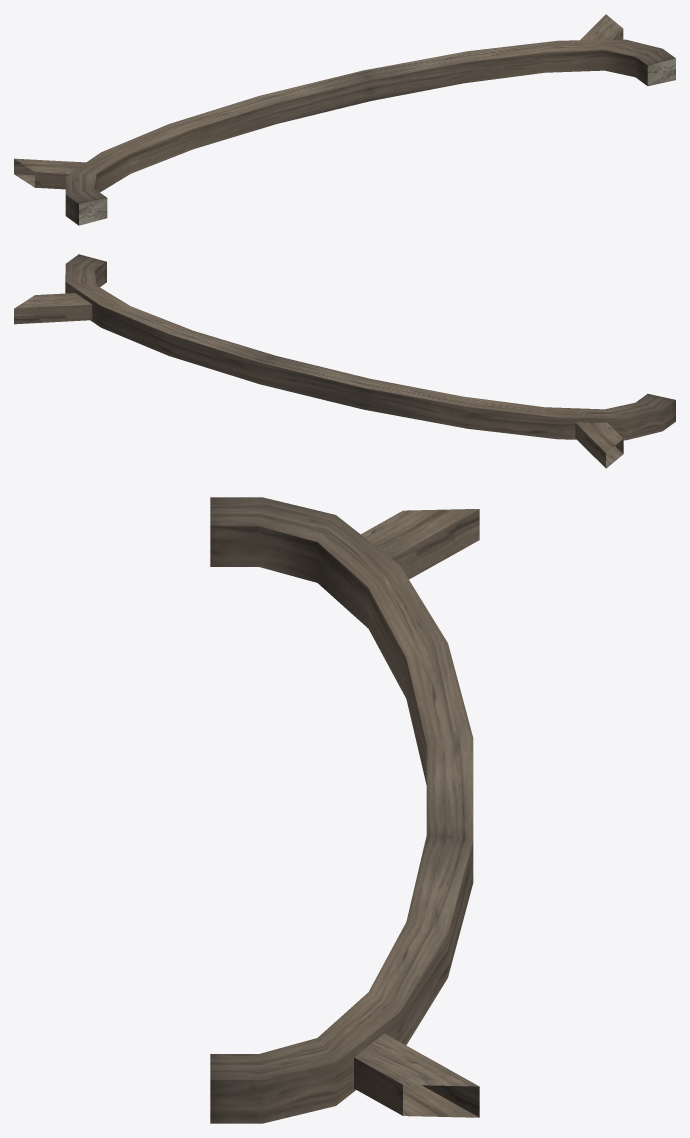
File: Arch_C.fbx
3 renders of one model, top to bottom at view 1: azimuth 30°, elevation 25°; view 2: azimuth 150°, elevation 25°; view 3: azimuth 270°, elevation 25°, orthographic. The views are drawn at different scales.
Parts seen in each view (by area): view 1: Arch_C; view 2: Arch_C; view 3: Arch_C.
Part boxes in pixels (x1,y1,x2,y2): Arch_C: (14,14,675,225); Arch_C: (14,254,675,468); Arch_C: (210,497,479,1123).
Size of the model in its own units: 4.99 by 0.1738 by 0.9763.
